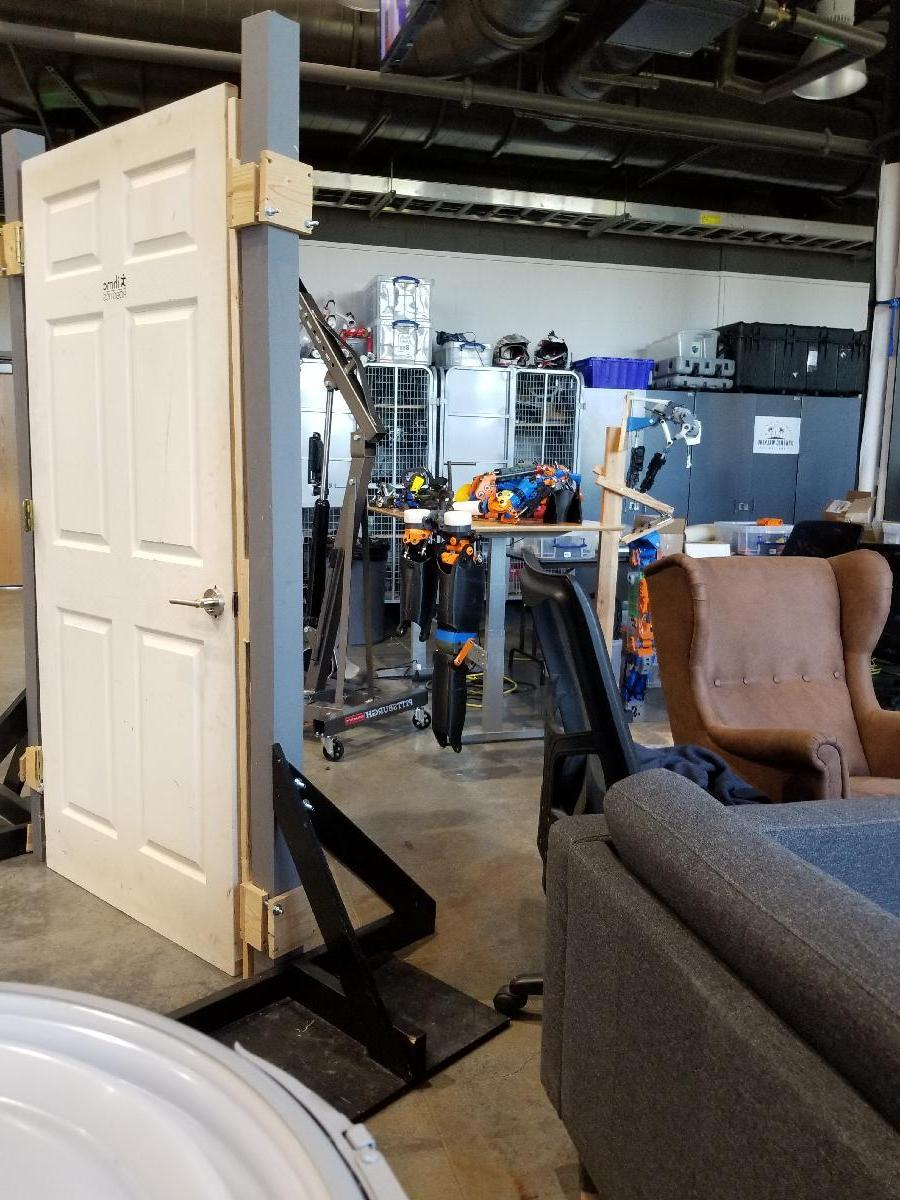door: (37, 75, 244, 914)
handle: (163, 580, 225, 622)
